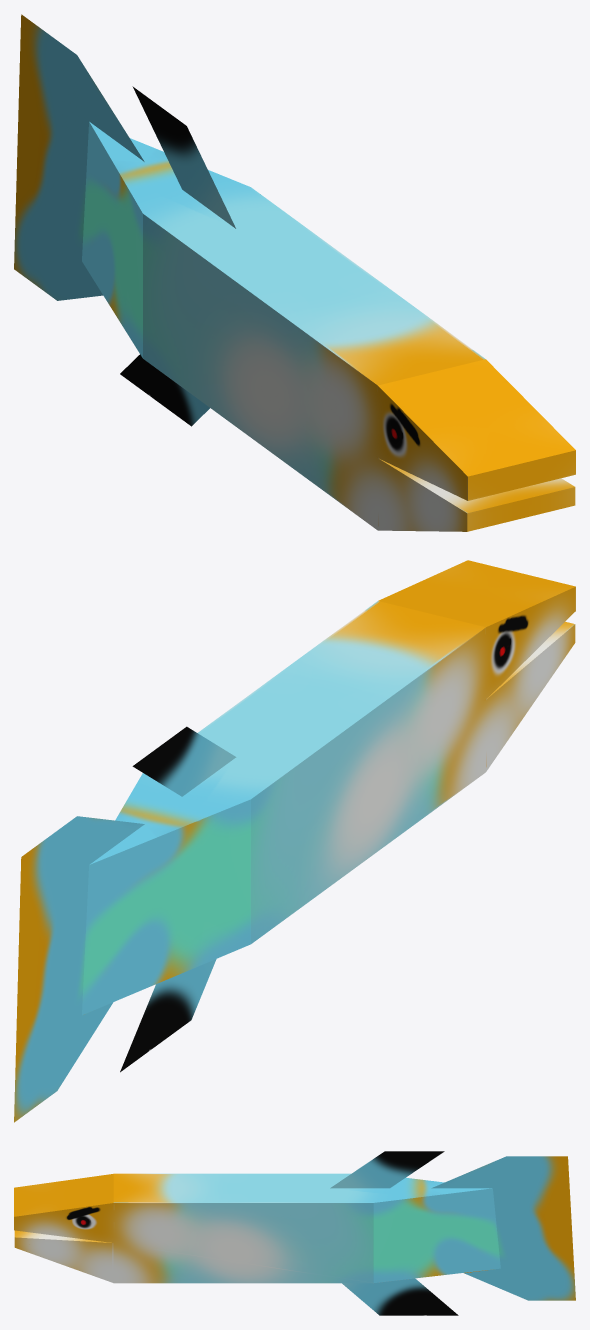
Rendered from RetardFis2h.fbx.
3 views of the same model, one above another, from view 1: azimuth 30°, elevation 25°; view 2: azimuth 150°, elevation 25°; view 3: azimuth 270°, elevation 25° (orthographic). The views are drawn at different scales.
Visible parts, largest first — view 1: Cube; view 2: Cube; view 3: Cube.
Part boxes in pixels (x1,y1,x2,y2): Cube: [14, 14, 575, 531]; Cube: [14, 560, 575, 1122]; Cube: [14, 1151, 575, 1315].
Size of the model in its own units: 156 by 410 by 1269.
